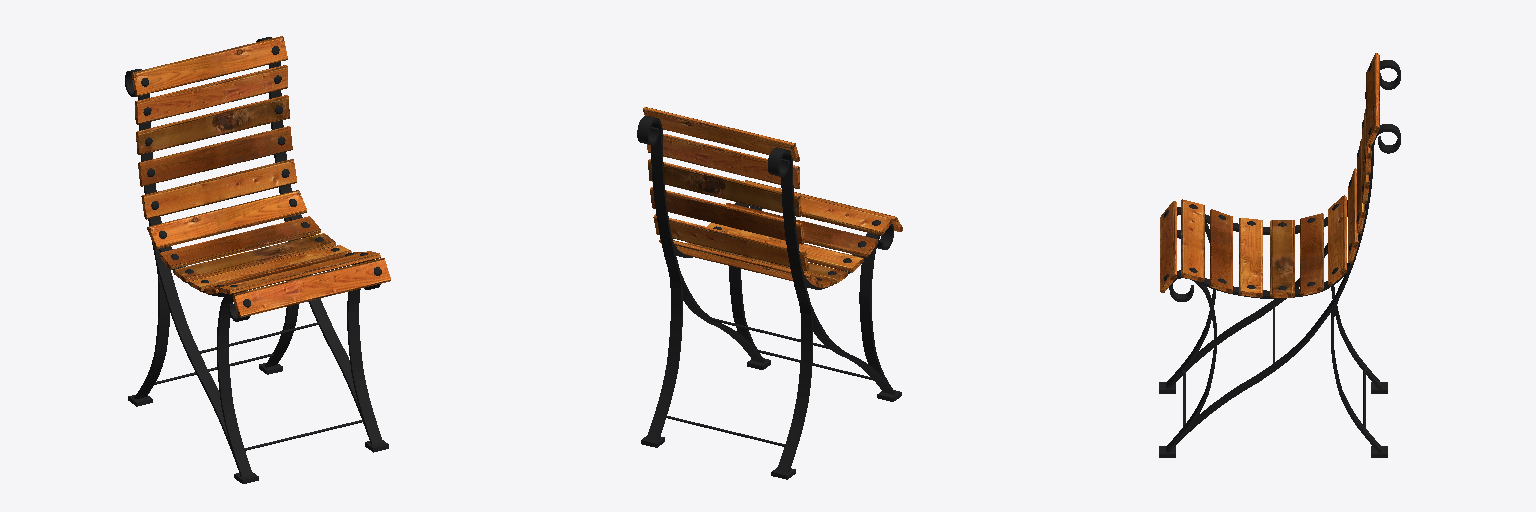
3 renders of one model, left to right at view 1: azimuth 30°, elevation 25°; view 2: azimuth 150°, elevation 25°; view 3: azimuth 270°, elevation 25°, orthographic.
Visible parts, largest first — view 1: OP_01, N_02; view 2: OP_01, N_02; view 3: OP_01, N_02.
Boxes of the visible parts, x1=… form: OP_01: x1=131, y1=36, x2=390, y2=317; N_02: x1=125, y1=37, x2=388, y2=483; OP_01: x1=643, y1=107, x2=902, y2=287; N_02: x1=637, y1=116, x2=901, y2=479; OP_01: x1=1160, y1=53, x2=1379, y2=297; N_02: x1=1159, y1=60, x2=1400, y2=457.
Size of the model in its own units: 42.84 by 90.49 by 59.61.
2 materials, 1 textured.